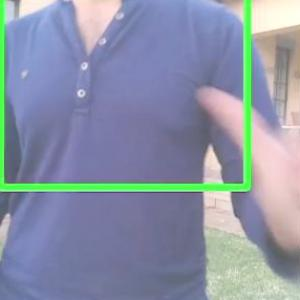land_hand: (191, 62, 299, 257)
